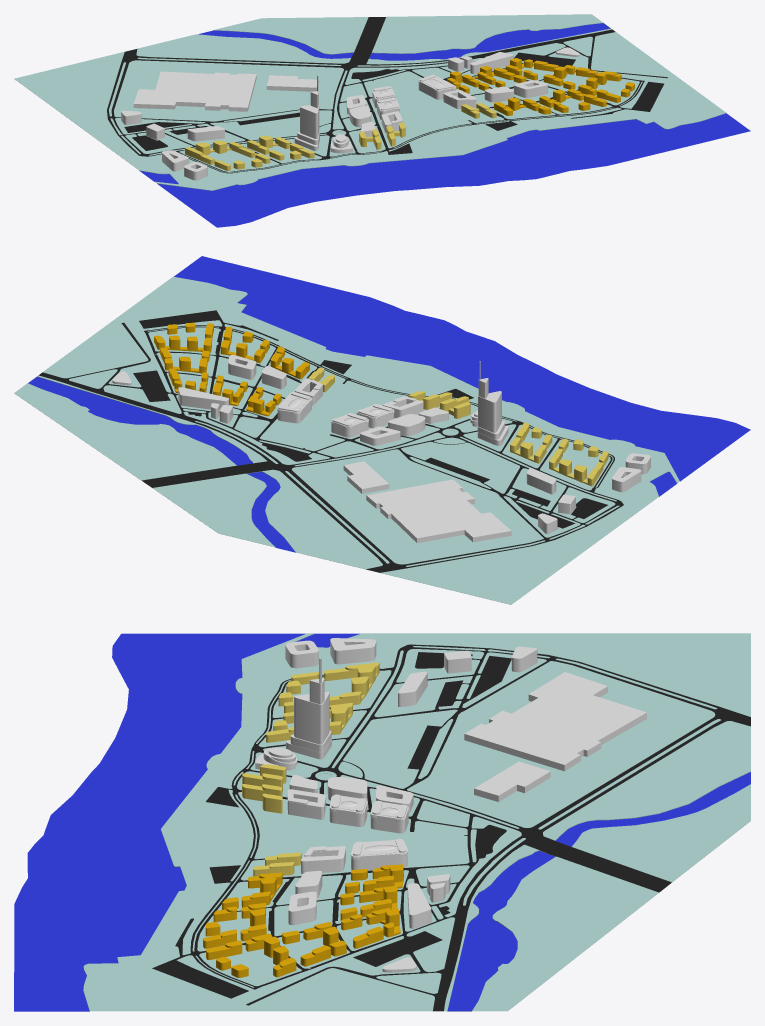
The model's file is Unity-park.glb.
3 renders of one model, top to bottom at view 1: azimuth 30°, elevation 25°; view 2: azimuth 150°, elevation 25°; view 3: azimuth 270°, elevation 25°, orthographic. The views are drawn at different scales.
Parts seen in each view (by area): view 1: Map, Cube.024, Cube.054, Cube.045, Cube.006, Cube.022, Cube.036, Cube.017, Cube.020, Cube.012, Cube.046, Cube (+7 smaller); view 2: Map, Cube.024, Cube.054, Cube.045, Cube.006, Cube.022, Cube.005, Cube.036, Cube.007, Cube.001, Cube.008, Cube.019 (+1 smaller); view 3: Map, Cube.024, Cube.054, Cube.006, Cube.045, Cube.019, Cube.036, Cube.005, Cube, Cube.001, Cube.002, Cube.012 (+13 smaller).
Part boxes in pixels (left/top/right/bottom): Map: left=14, top=14, right=750, bottom=227; Cube.024: left=133, top=71, right=318, bottom=111; Cube.054: left=294, top=75, right=319, bottom=150; Cube.045: left=185, top=140, right=254, bottom=164; Cube.006: left=418, top=74, right=456, bottom=99; Cube.022: left=470, top=52, right=513, bottom=74; Cube.036: left=578, top=71, right=621, bottom=95; Cube.017: left=514, top=80, right=547, bottom=98; Cube.020: left=187, top=126, right=224, bottom=141; Cube.012: left=494, top=97, right=540, bottom=115; Cube.046: left=247, top=135, right=290, bottom=154; Cube: left=443, top=90, right=476, bottom=108; Map: left=14, top=256, right=750, bottom=604; Cube.024: left=343, top=461, right=511, bottom=543; Cube.054: left=477, top=361, right=508, bottom=445; Cube.045: left=549, top=448, right=603, bottom=486; Cube.006: left=277, top=392, right=312, bottom=423; Cube.022: left=178, top=387, right=228, bottom=410; Cube.005: left=331, top=413, right=368, bottom=437; Cube.036: left=154, top=335, right=211, bottom=352; Cube.007: left=388, top=414, right=425, bottom=436; Cube.001: left=356, top=404, right=394, bottom=428; Cube.008: left=360, top=426, right=400, bottom=445; Cube.019: left=612, top=467, right=641, bottom=492; Map: left=14, top=633, right=750, bottom=1011; Cube.024: left=464, top=672, right=646, bottom=801; Cube.054: left=286, top=658, right=331, bottom=759; Cube.006: left=350, top=839, right=407, bottom=870; Cube.045: left=324, top=662, right=379, bottom=705; Cube.019: left=330, top=638, right=376, bottom=664; Cube.036: left=245, top=933, right=296, bottom=977; Cube.005: left=370, top=800, right=408, bottom=833; Cube: left=301, top=846, right=345, bottom=873; Cube.001: left=329, top=794, right=367, bottom=826; Cube.002: left=287, top=789, right=325, bottom=819; Cube.012: left=241, top=872, right=282, bottom=907.
Bounding box in the file's own units: 77.04 × 9.53 × 63.48.
